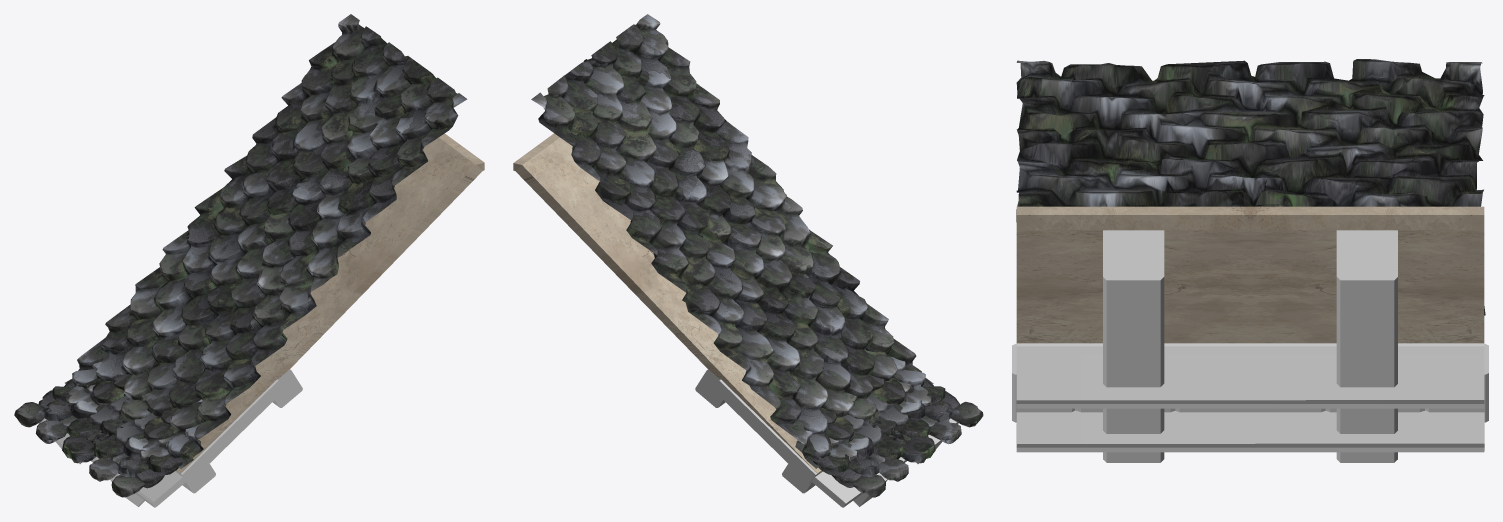
Rendered from SM_Roof_A_03.fbx.
3 renders of one model, left to right at view 1: azimuth 30°, elevation 25°; view 2: azimuth 150°, elevation 25°; view 3: azimuth 270°, elevation 25°, orthographic. The views are drawn at different scales.
Visible parts, largest first — view 1: SM_Roof_A_03_LOD0; view 2: SM_Roof_A_03_LOD0; view 3: SM_Roof_A_03_LOD0.
Boxes of the visible parts, x1,y1,x2,y2 form: SM_Roof_A_03_LOD0: (14, 14, 484, 507); SM_Roof_A_03_LOD0: (513, 14, 983, 507); SM_Roof_A_03_LOD0: (1012, 59, 1488, 462).
Bounding box in the file's own units: 368 × 204 × 331.
